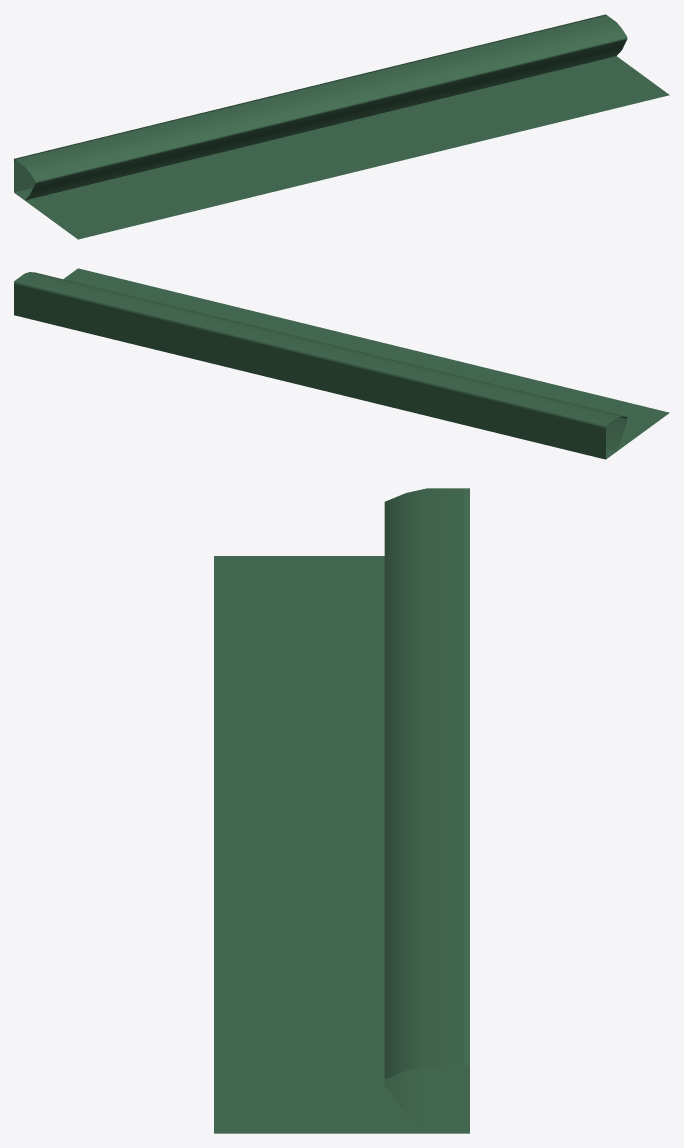
Rendered from table_cushion_straight_b.fbx.
3 views of the same model, one above another, from view 1: azimuth 30°, elevation 25°; view 2: azimuth 150°, elevation 25°; view 3: azimuth 270°, elevation 25° (orthographic). The views are drawn at different scales.
Parts seen in each view (by area): view 1: lod0; view 2: lod0; view 3: lod0.
Part boxes in pixels (x1,y1,x2,y2): lod0: [14, 14, 669, 239]; lod0: [14, 268, 669, 459]; lod0: [214, 488, 469, 1133].
Bounding box in the file's own units: 32 × 1.75 × 6.
